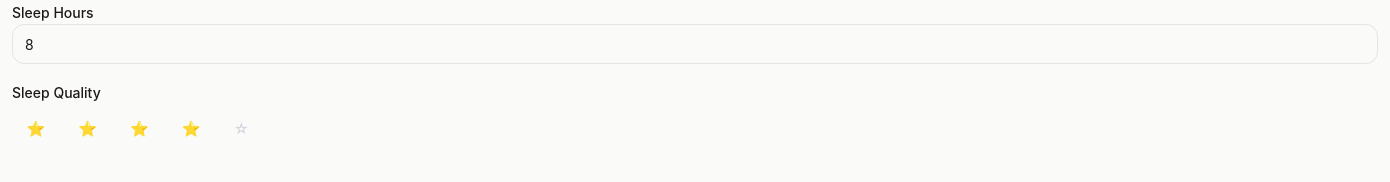
Test: SleepQualityInput › Hours Input › should show validation error for values over 24
Replace the text in the number field labelled "Sleep Hours" with "25": (695, 44) [12,24,1378,64]
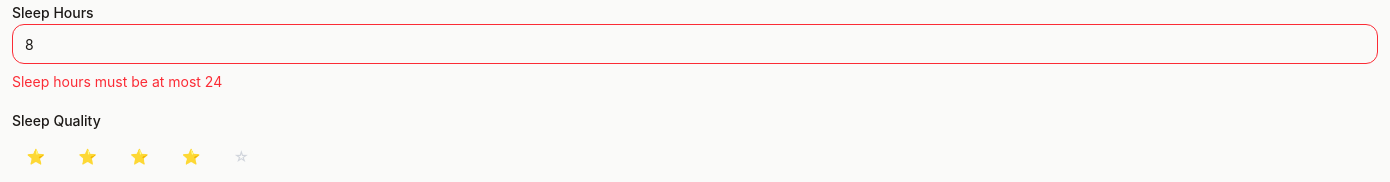
Check: the message reads "Sleep hours must be at most 24", box [12,73,222,90]
